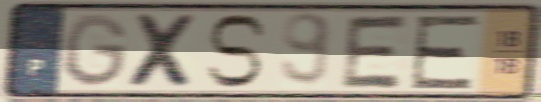9: (279, 9, 334, 93)
E: (407, 13, 484, 91), (337, 12, 413, 91)
G: (62, 11, 132, 91)
S: (202, 12, 270, 91)
X: (125, 11, 203, 91)
